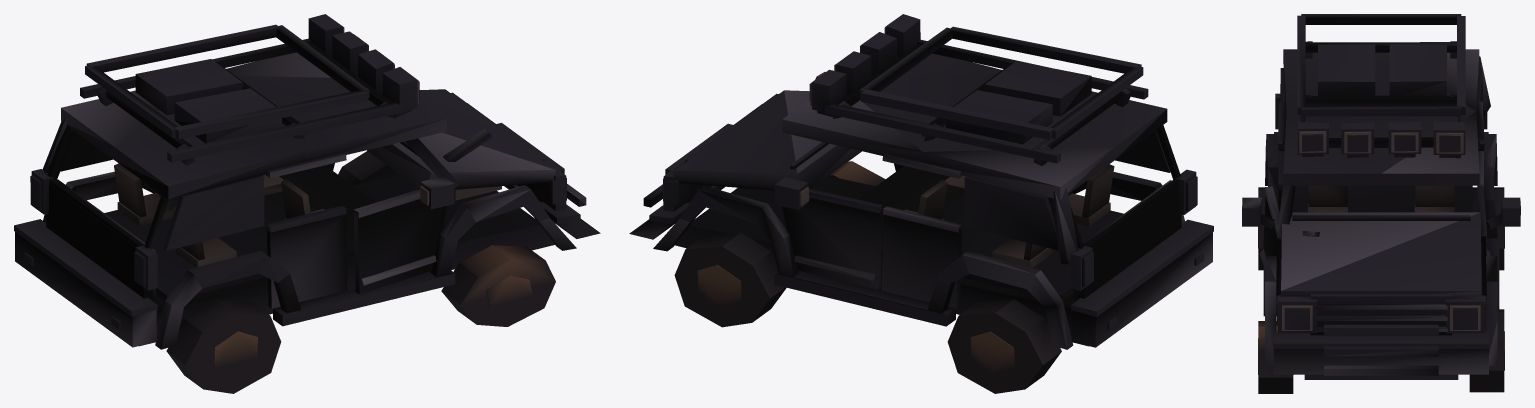
The model's file is model.burned.lod2.glb.
3 renders of one model, left to right at view 1: azimuth 30°, elevation 25°; view 2: azimuth 150°, elevation 25°; view 3: azimuth 270°, elevation 25°, orthographic. The views are drawn at different scales.
Parts seen in each view (by area): view 1: body_pal_uiDark, body_pal_asphalt, wheelRL_pal_sidewalk, wheelFL_pal_sidewalk, body_pal_sidewalk, wheelFR_pal_sidewalk; view 2: body_pal_uiDark, body_pal_asphalt, wheelRR_pal_sidewalk, wheelFR_pal_sidewalk, body_pal_sidewalk, wheelFL_pal_sidewalk; view 3: body_pal_uiDark, body_pal_asphalt, body_pal_sidewalk, wheelFR_pal_sidewalk, wheelFL_pal_sidewalk, wheelRR_pal_sidewalk, wheelRL_pal_sidewalk.
Part boxes in pixels (box(x1,y1,x2,y2)): body_pal_uiDark: box(14, 14, 600, 346); body_pal_asphalt: box(15, 52, 598, 349); wheelRL_pal_sidewalk: box(166, 299, 281, 393); wheelFL_pal_sidewalk: box(441, 245, 555, 326); body_pal_sidewalk: box(114, 20, 501, 309); wheelFR_pal_sidewalk: box(338, 151, 400, 185); body_pal_uiDark: box(629, 14, 1213, 349); body_pal_asphalt: box(629, 72, 1212, 349); wheelRR_pal_sidewalk: box(947, 299, 1061, 393); wheelFR_pal_sidewalk: box(674, 232, 786, 327); body_pal_sidewalk: box(663, 26, 1114, 315); wheelFL_pal_sidewalk: box(829, 161, 885, 186); body_pal_uiDark: box(1242, 14, 1520, 379); body_pal_asphalt: box(1242, 49, 1497, 375); body_pal_sidewalk: box(1282, 131, 1498, 330); wheelFR_pal_sidewalk: box(1469, 309, 1504, 392); wheelFL_pal_sidewalk: box(1258, 321, 1293, 393); wheelRR_pal_sidewalk: box(1472, 187, 1504, 270); wheelRL_pal_sidewalk: box(1258, 187, 1265, 270).
Size of the model in its own units: 4.98 by 2.52 by 2.72.
